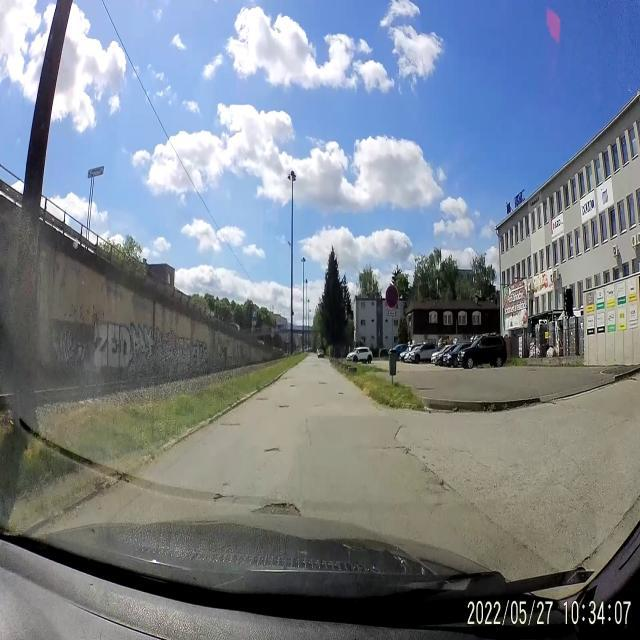Pothole: (252, 502, 305, 521), (435, 473, 451, 496), (208, 486, 226, 504), (402, 440, 418, 460), (218, 418, 242, 430), (264, 443, 282, 455), (253, 394, 270, 406), (276, 402, 292, 412), (316, 378, 329, 387), (280, 374, 294, 382), (338, 389, 346, 398), (288, 384, 299, 390)
